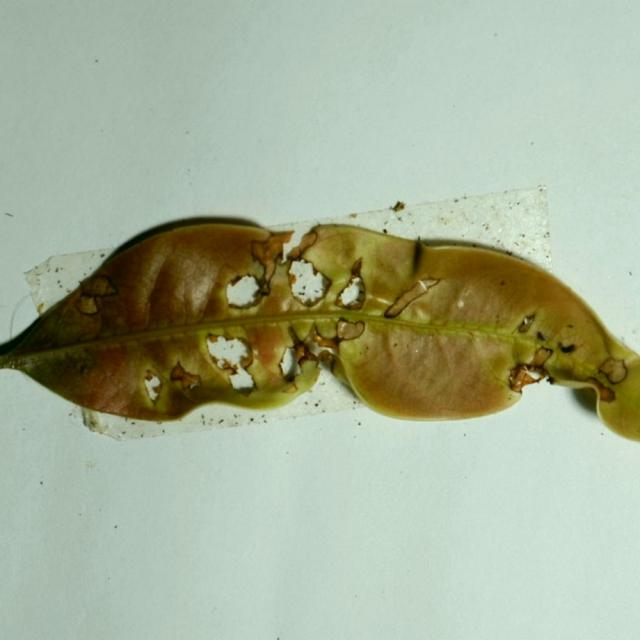Anthracnose: (513, 320, 628, 404), (286, 319, 359, 387), (262, 255, 338, 315), (141, 356, 211, 409), (223, 255, 271, 322), (382, 276, 442, 318), (67, 274, 119, 321), (278, 339, 304, 383), (60, 349, 93, 377), (143, 370, 161, 400), (529, 346, 552, 368), (514, 368, 538, 387), (518, 313, 536, 333), (218, 360, 239, 375), (557, 340, 577, 354), (419, 277, 440, 290), (287, 247, 302, 260), (237, 386, 254, 397), (229, 275, 243, 286), (391, 201, 405, 212), (207, 334, 221, 344)
Mango: (0, 216, 639, 445)
